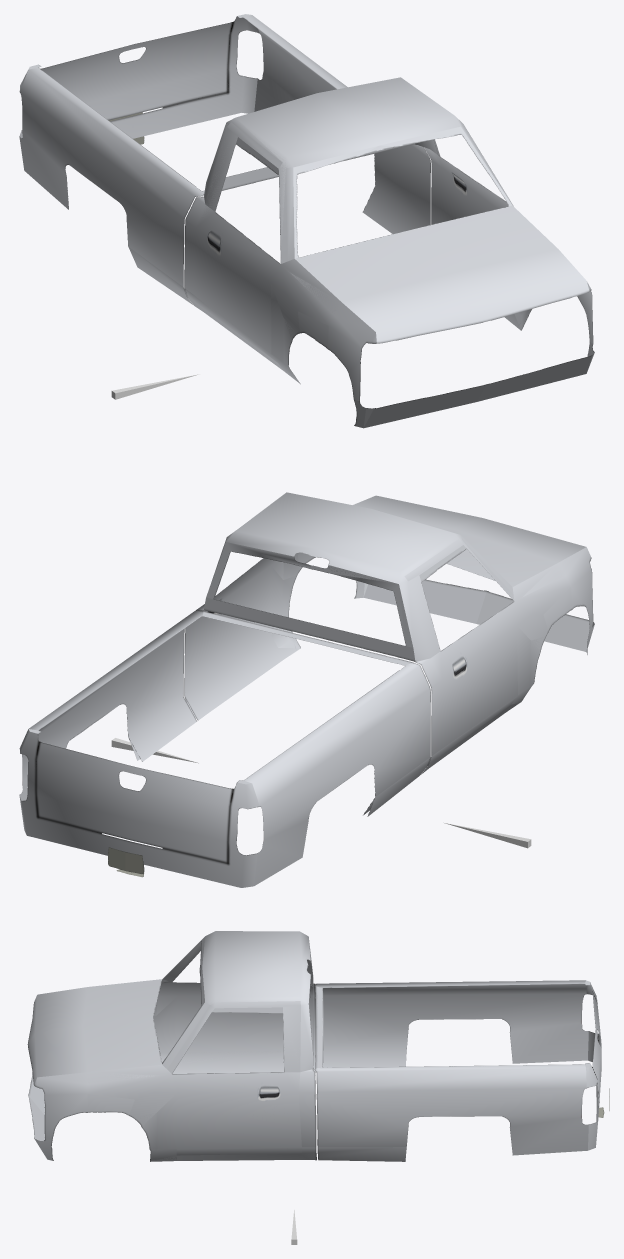
The model's file is Pickup.FBX.
3 renders of one model, top to bottom at view 1: azimuth 30°, elevation 25°; view 2: azimuth 150°, elevation 25°; view 3: azimuth 270°, elevation 25°, orthographic. The views are drawn at different scales.
Visible parts, largest first — view 1: Pickup1BodyLores, Pickup2BodyWindowed, Pickup3BodyDoorCut, DoorR; view 2: Pickup1BodyLores, Pickup2BodyWindowed, Pickup3BodyDoorCut, DoorR; view 3: Pickup2BodyWindowed, Pickup1BodyLores, DoorL, Pickup3BodyDoorCut, DoorR.
Part boxes in pixels (box(x1,y1,x2,y2)): Pickup1BodyLores: box(19, 14, 594, 428); Pickup2BodyWindowed: box(32, 14, 594, 426); Pickup3BodyDoorCut: box(128, 117, 527, 378); DoorR: box(193, 122, 287, 362); Pickup1BodyLores: box(19, 496, 594, 887); Pickup2BodyWindowed: box(19, 492, 589, 886); Pickup3BodyDoorCut: box(128, 531, 571, 816); DoorR: box(404, 539, 530, 757); Pickup2BodyWindowed: box(27, 931, 609, 1161); Pickup1BodyLores: box(28, 931, 600, 1141); DoorL: box(156, 1001, 301, 1155); Pickup3BodyDoorCut: box(87, 979, 406, 1161); DoorR: box(156, 952, 280, 1062).
Size of what is drawn, in the model's own units: 334 by 193 by 515.
